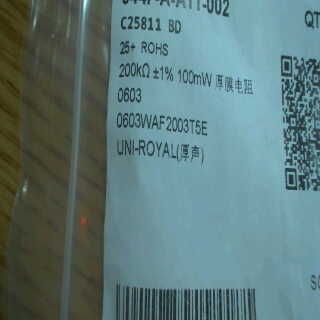200kR: (113, 59, 153, 79)
